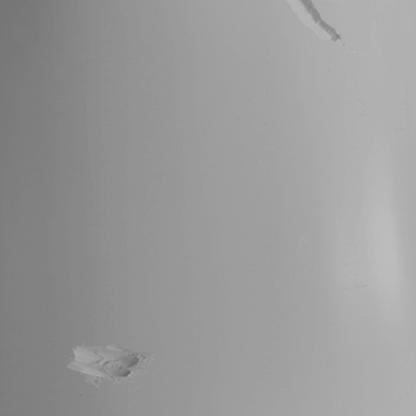sunshang: (65, 341, 144, 380), (284, 1, 344, 45)
